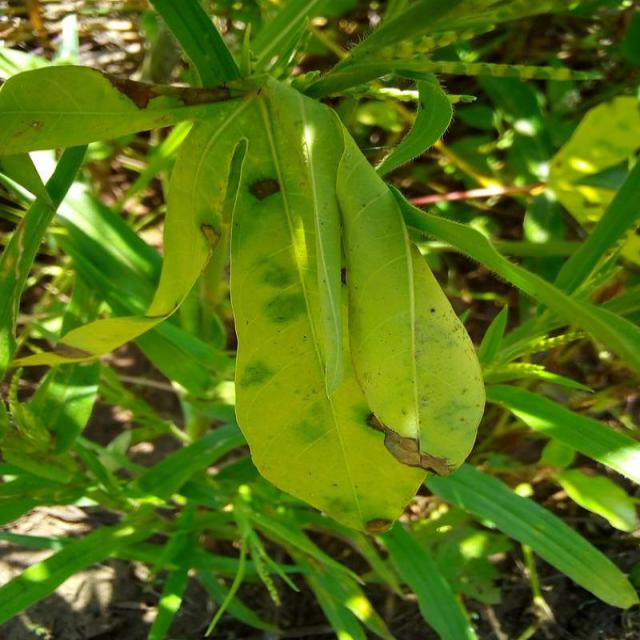cassava leaf: (59, 72, 488, 536)
